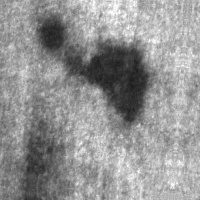patches: (70, 39, 152, 127), (21, 121, 54, 186), (32, 12, 67, 52)
